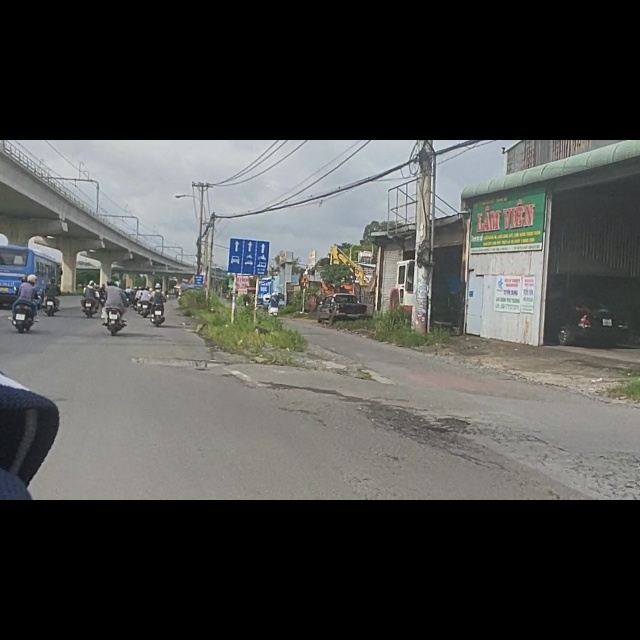bien_chi_dan: (227, 169, 272, 244)
